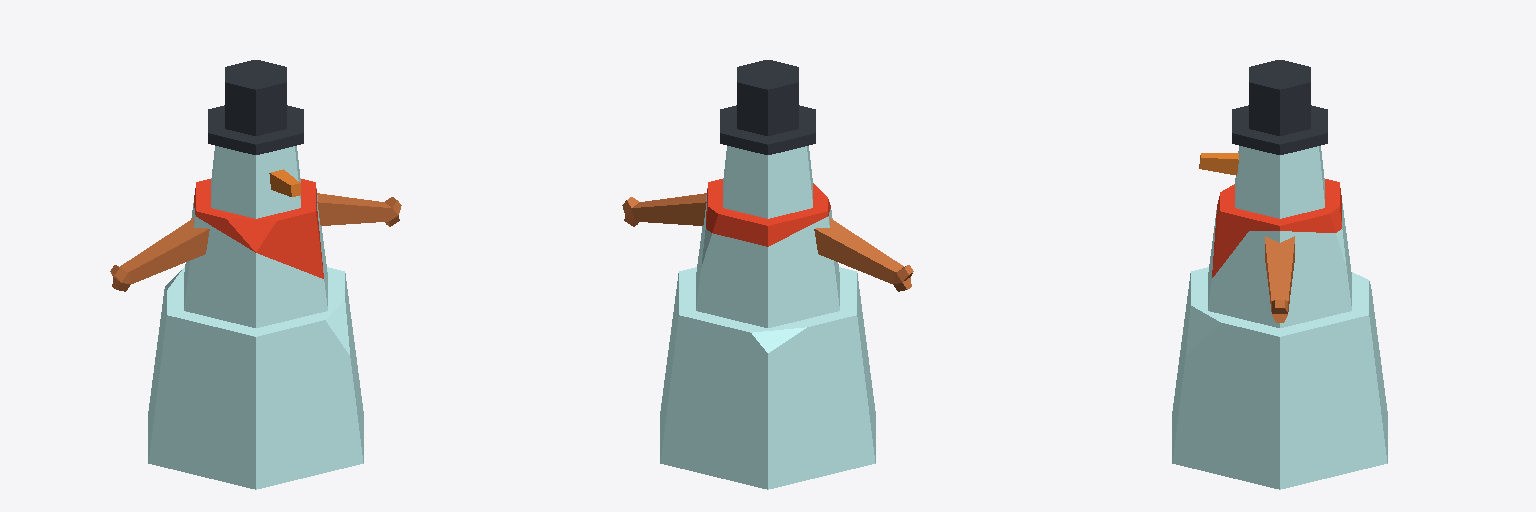
File: snowmanFancy.obj
3 views of the same model, side by side, from view 1: azimuth 30°, elevation 25°; view 2: azimuth 150°, elevation 25°; view 3: azimuth 270°, elevation 25° (orthographic).
Parts seen in each view (by area): view 1: snowmanFancy; view 2: snowmanFancy; view 3: snowmanFancy.
Boxes of the visible parts, <box> form: snowmanFancy: <box>110,60,401,489</box>; snowmanFancy: <box>622,60,913,489</box>; snowmanFancy: <box>1172,60,1387,489</box>.
Size of the model in its own units: 0.6935 by 0.8381 by 0.4503.